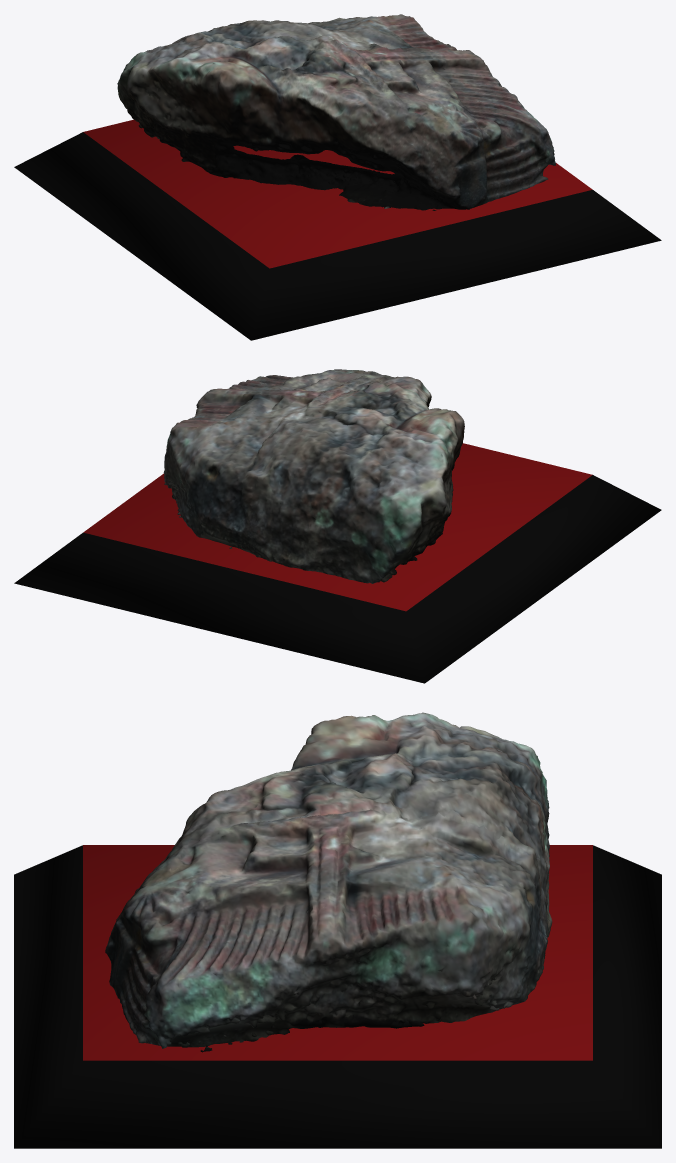
Rendered from Fragmento_Chicomecoatl.glb.
3 views of the same model, one above another, from view 1: azimuth 30°, elevation 25°; view 2: azimuth 150°, elevation 25°; view 3: azimuth 270°, elevation 25° (orthographic). The views are drawn at different scales.
Parts seen in each view (by area): view 1: mesh1; view 2: mesh1; view 3: mesh1.
Part boxes in pixels (x1,y1,x2,y2): mesh1: (14,14,661,340); mesh1: (14,369,661,683); mesh1: (14,712,661,1148).
Size of the model in its own units: 10 by 3.73 by 10.
4 materials, 2 textured.
